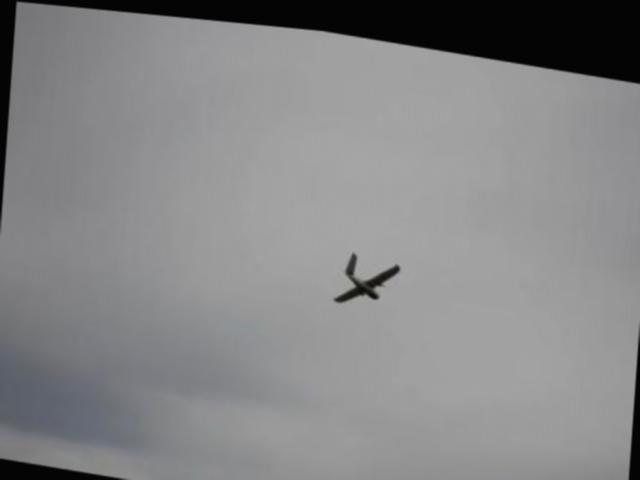uav: (322, 228, 407, 321)
